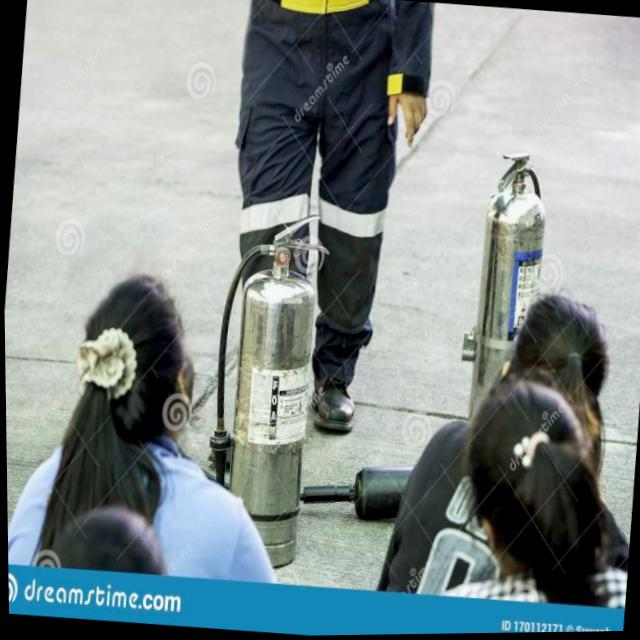FireExtinguisher: (185, 194, 484, 598), (439, 135, 563, 541)
